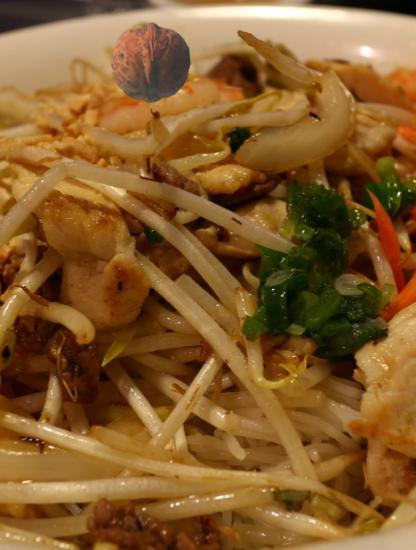Walnut: (110, 22, 192, 104)
